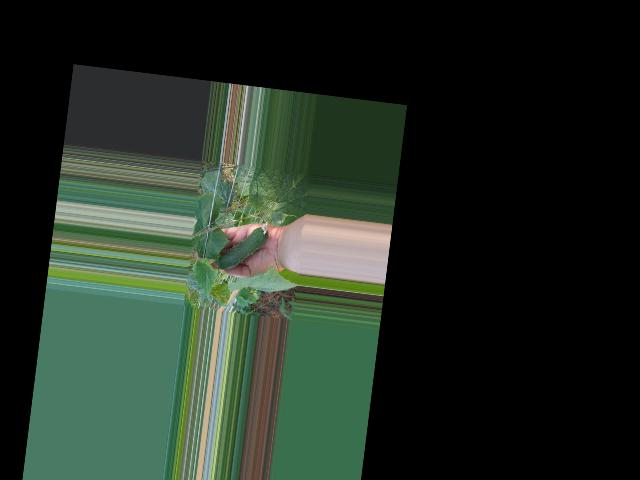cucumber: (216, 215, 269, 274)
